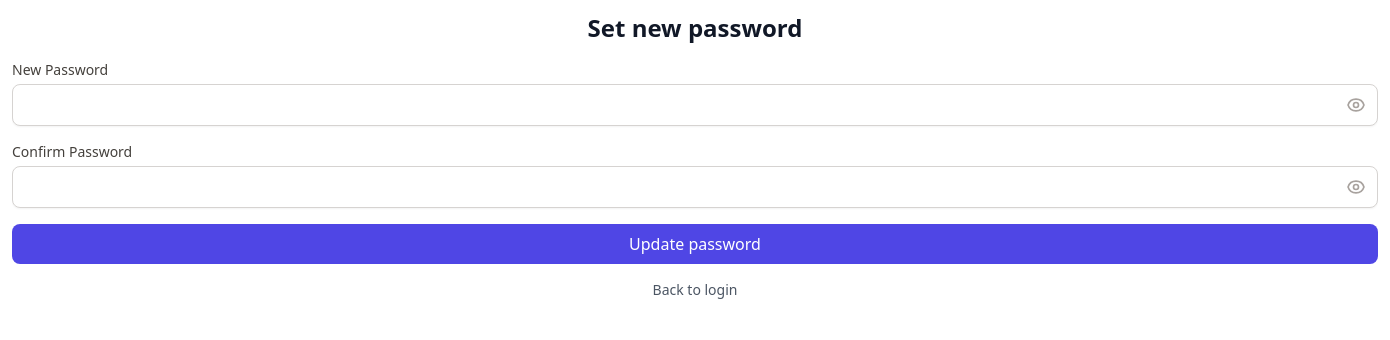
Test: PasswordResetForm - Reset mode (with token) › shows error when new password is too short
Type "Ab1" into the password field labelled "New Password".
click(695, 105); type("Ab1")  # box [12,84,1378,126]
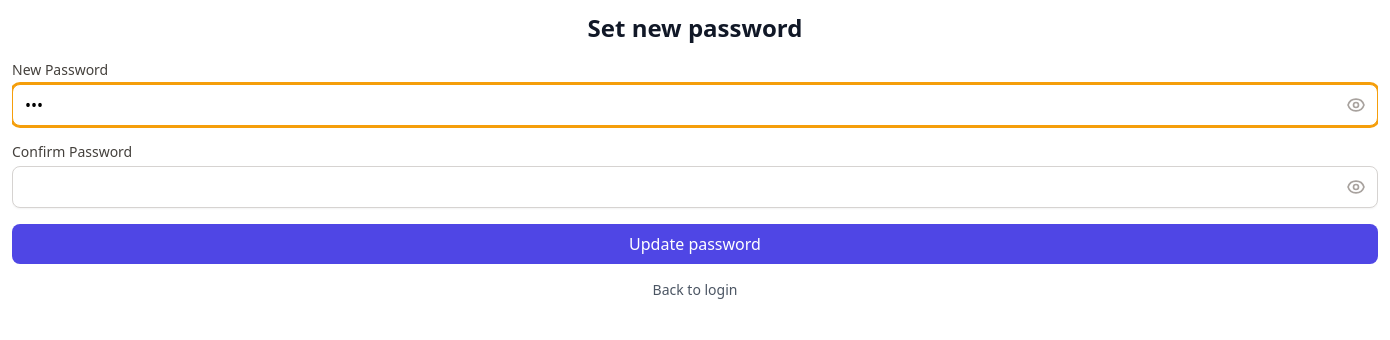
Type "Ab1" into the password field labelled "Confirm Password".
click(695, 187); type("Ab1")  # box [12,166,1378,208]
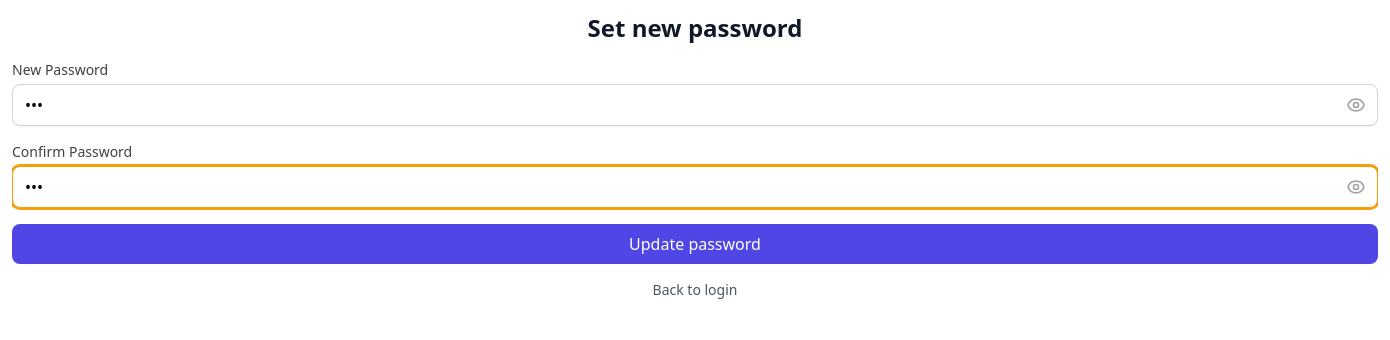
Click the button "Update password".
click(695, 244)  # box [12,224,1378,264]
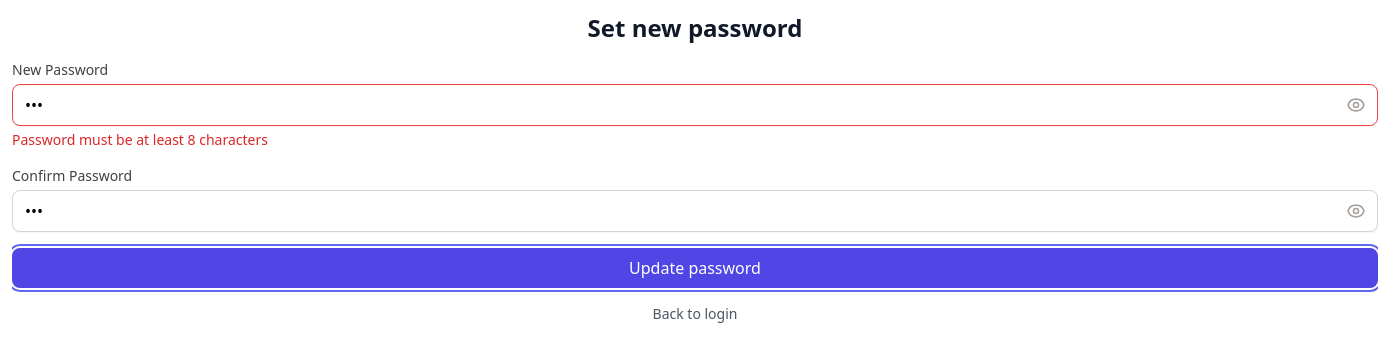
Result: the text "Password must be at least 8 characters" is shown at [12,130,268,149]
